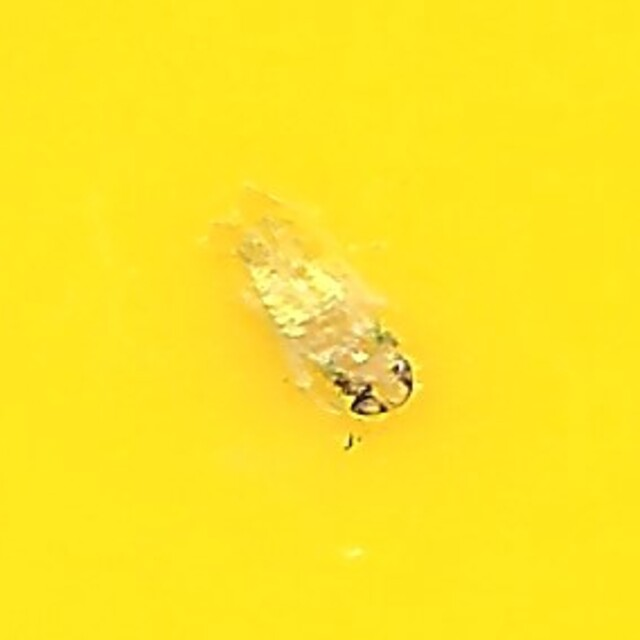Hemiptera: (225, 211, 415, 429)
